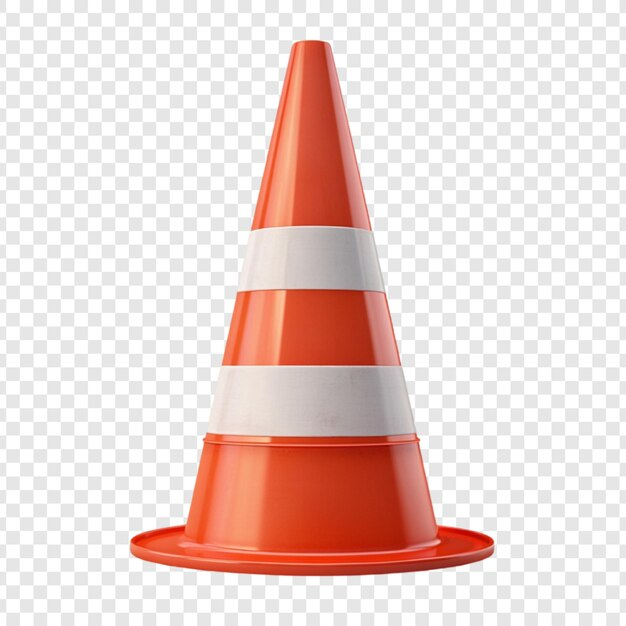Road_cone: (129, 40, 502, 576)
